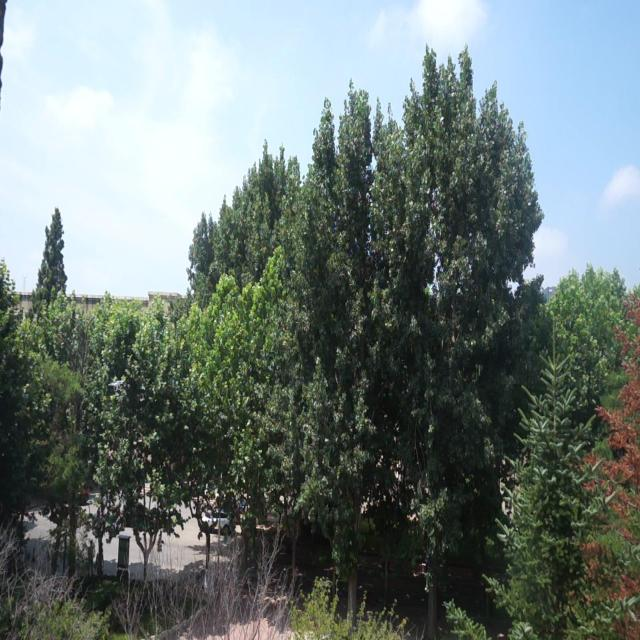drone: (106, 374, 126, 394)
